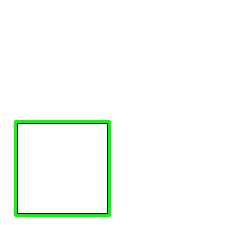line_segment: (14, 120, 111, 217)
